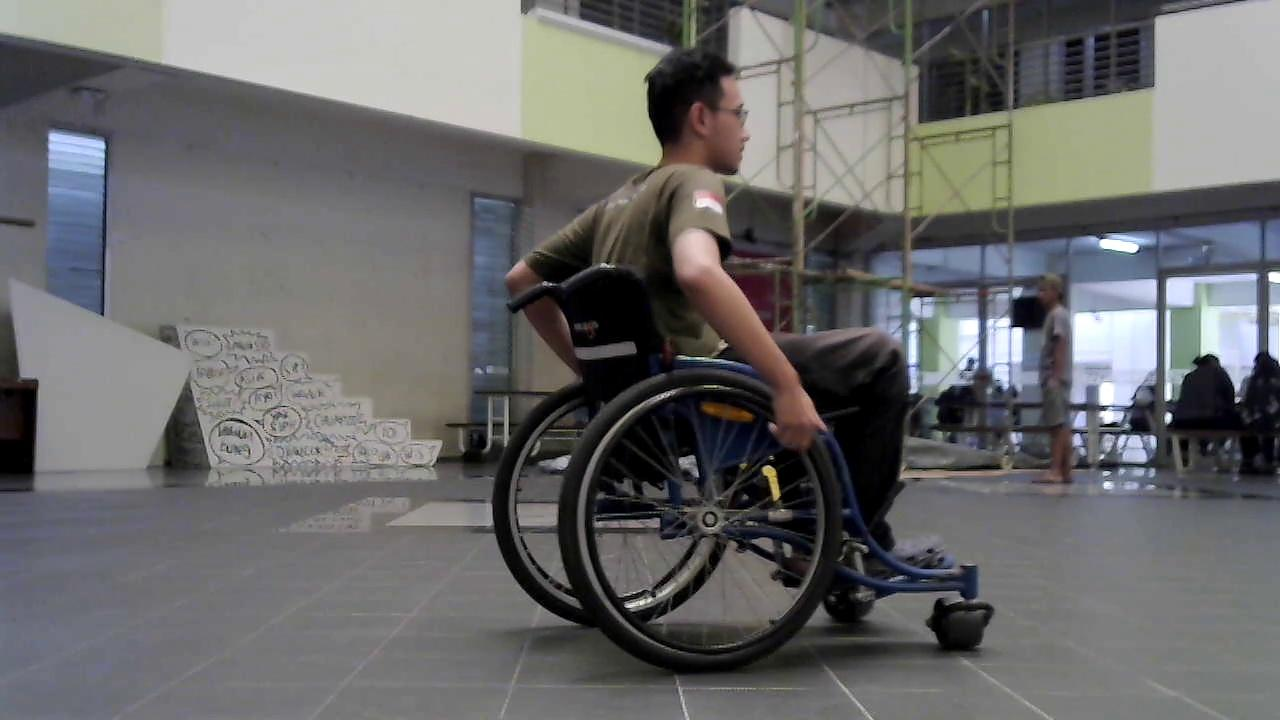person: (502, 50, 968, 590), (1033, 275, 1079, 487), (1169, 350, 1244, 477), (1239, 352, 1280, 473)
wheelchair: (461, 257, 1013, 683)
